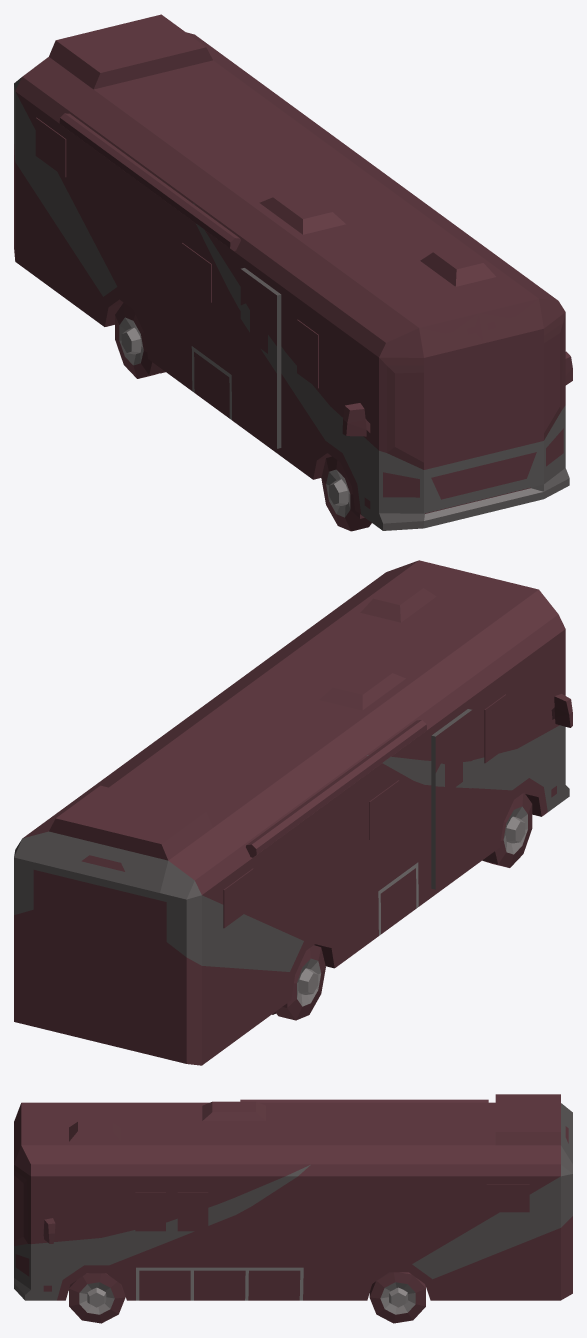
File: car-camper-bus.fbx
The picture shows the model from 3 angles, top to bottom: view 1: azimuth 30°, elevation 25°; view 2: azimuth 150°, elevation 25°; view 3: azimuth 270°, elevation 25°; orthographic projection. The views are drawn at different scales.
Visible parts, largest first — view 1: car-camper-bus-base, car-camper-bus-wheel_FR, car-camper-bus-wheel_BR; view 2: car-camper-bus-base, car-camper-bus-wheel_BR, car-camper-bus-wheel_FR; view 3: car-camper-bus-base, car-camper-bus-wheel_BL, car-camper-bus-wheel_FL.
Part boxes in pixels (<box>): car-camper-bus-base: <box>14,14,572,530</box>; car-camper-bus-wheel_FR: <box>321,456,371,531</box>; car-camper-bus-wheel_BR: <box>115,302,165,378</box>; car-camper-bus-base: <box>14,560,572,1065</box>; car-camper-bus-wheel_BR: <box>272,945,325,1020</box>; car-camper-bus-wheel_FR: <box>482,792,532,867</box>; car-camper-bus-base: <box>14,1094,572,1300</box>; car-camper-bus-wheel_BL: <box>369,1272,425,1323</box>; car-camper-bus-wheel_FL: <box>69,1273,125,1323</box>.
Size of the model in its own units: 3.23 by 3.34 by 9.43.
